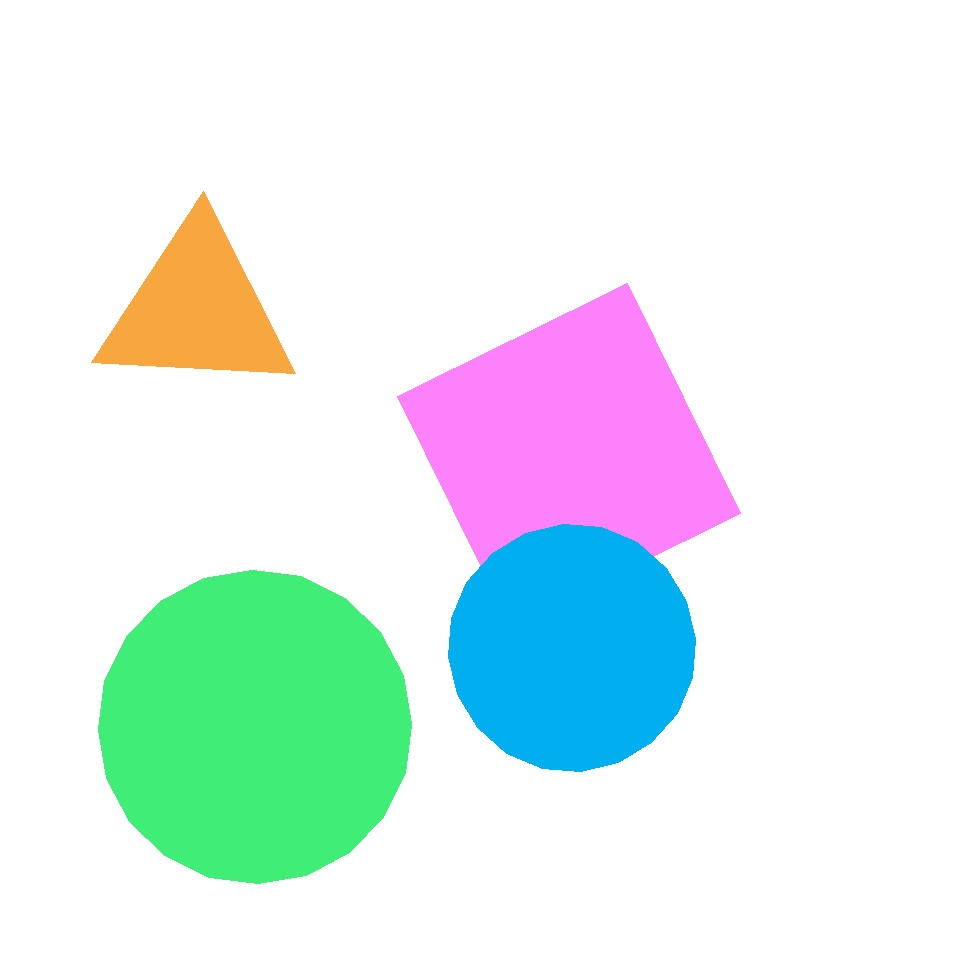circle: (95, 218, 299, 400)
square: (397, 284, 740, 626), (648, 426, 818, 598)
triangle: (98, 570, 412, 884), (30, 570, 280, 820), (448, 524, 696, 772)
